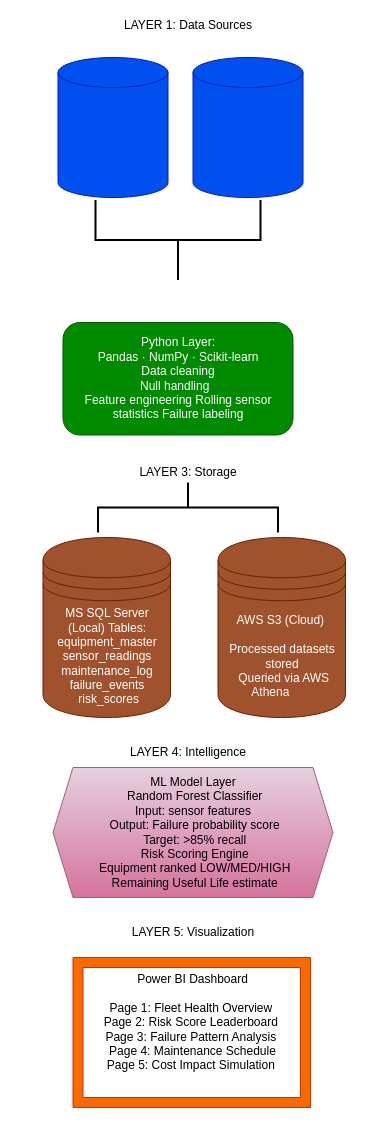
The diagram is 387 pixels wide and 1125 high, and some of its shapes have lost their labels. The centre of each missing label's shape, as x and y in pixels:
LAYER 2: Ingestion & Processes: (x=177, y=239)
Synthetic Port Equipment Data Python Generated Crane/Conveyer: (x=247, y=127)
UCI AI41 Dataset: 10,000 records 14 features 5 Failure types: (x=112, y=127)
